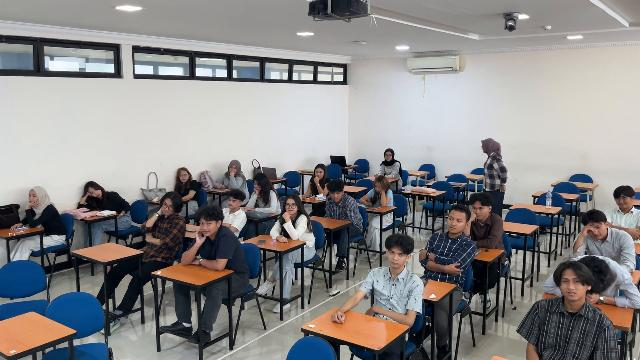bosan: (561, 275, 583, 301), (447, 212, 463, 233), (388, 247, 404, 267), (587, 223, 606, 239), (199, 218, 214, 236), (472, 203, 486, 219), (615, 195, 630, 209), (162, 199, 174, 215), (286, 199, 297, 214), (28, 190, 38, 205), (89, 187, 102, 198), (228, 196, 239, 208), (330, 191, 342, 202), (180, 171, 189, 182), (315, 168, 324, 179), (253, 181, 261, 191), (375, 182, 382, 193), (230, 166, 237, 174)
